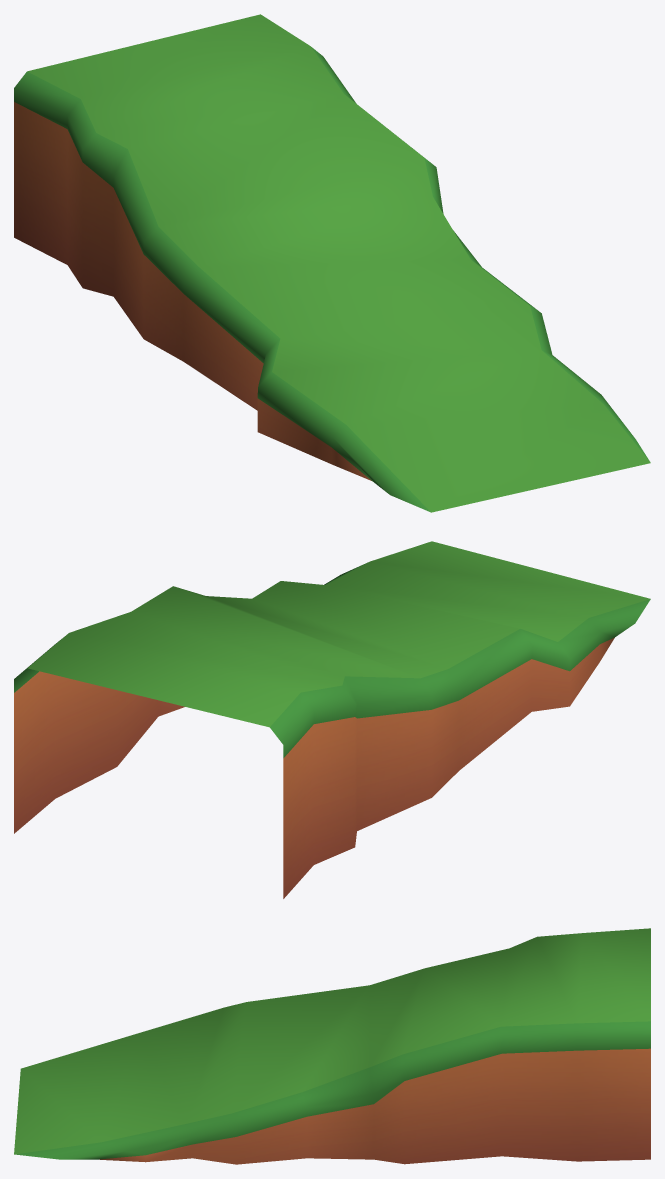
The model's file is Straight Slope 02.FBX.
3 views of the same model, one above another, from view 1: azimuth 30°, elevation 25°; view 2: azimuth 150°, elevation 25°; view 3: azimuth 270°, elevation 25° (orthographic). The views are drawn at different scales.
Visible parts, largest first — view 1: Straight Slope 02; view 2: Straight Slope 02; view 3: Straight Slope 02.
Boxes of the visible parts, left/top/right/bottom form: Straight Slope 02: left=14, top=14, right=650, bottom=512; Straight Slope 02: left=14, top=541, right=650, bottom=898; Straight Slope 02: left=14, top=928, right=650, bottom=1164.
Size of the model in its own units: 556 by 300 by 1301.
Materials: 1 (1 with a texture image).
